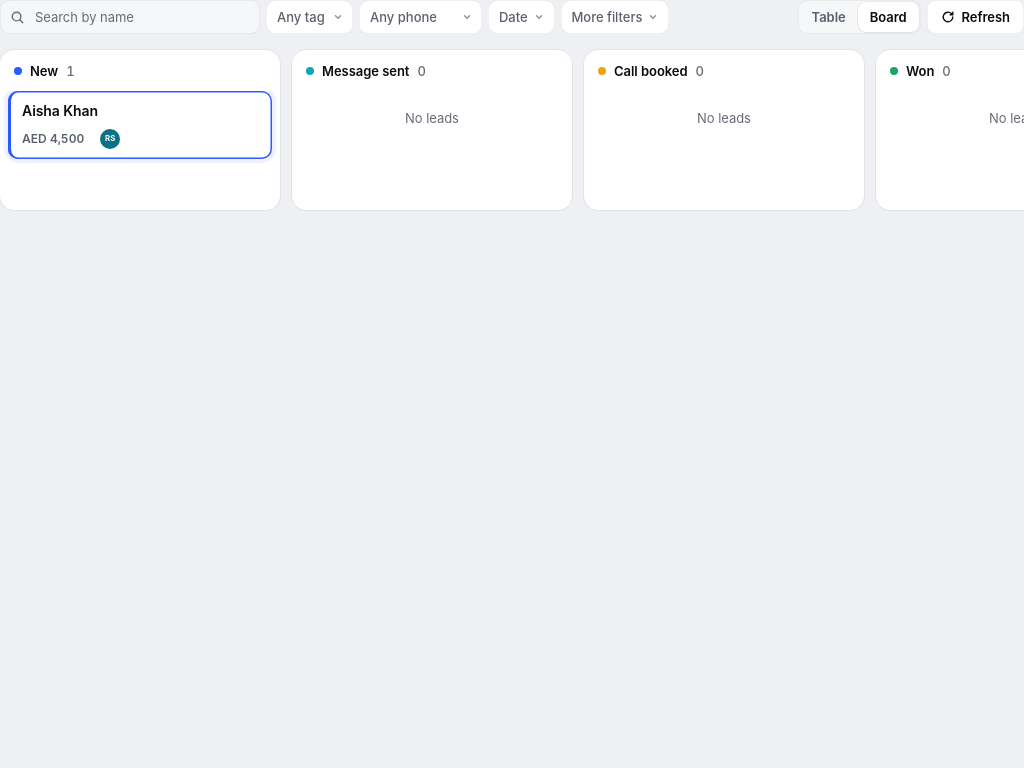
Test: BoardScreen › asks for the reason when a card is dropped on Lost, and cancelling puts it back
This screenshot has width=1024, height=768.
Type keys " {ArrowRight}{ArrowRight}{ArrowRight}{ArrowRight}{Enter}"
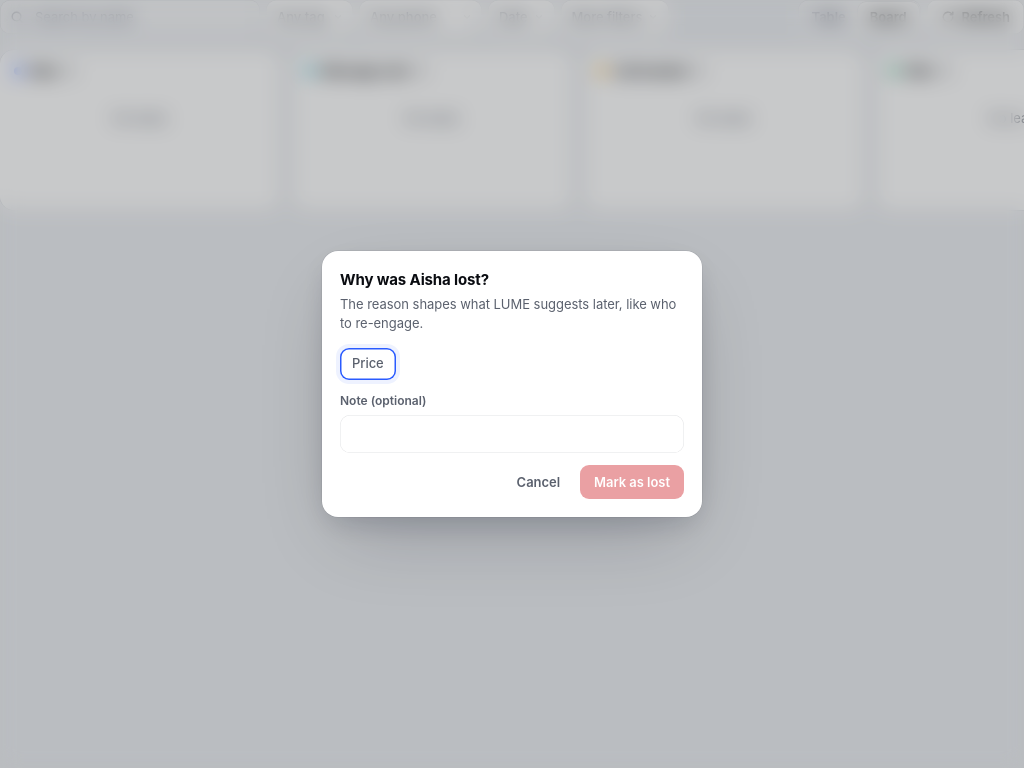
Click the button "Cancel".
click(538, 482)  # box top-left (503, 465), bottom-right (574, 499)
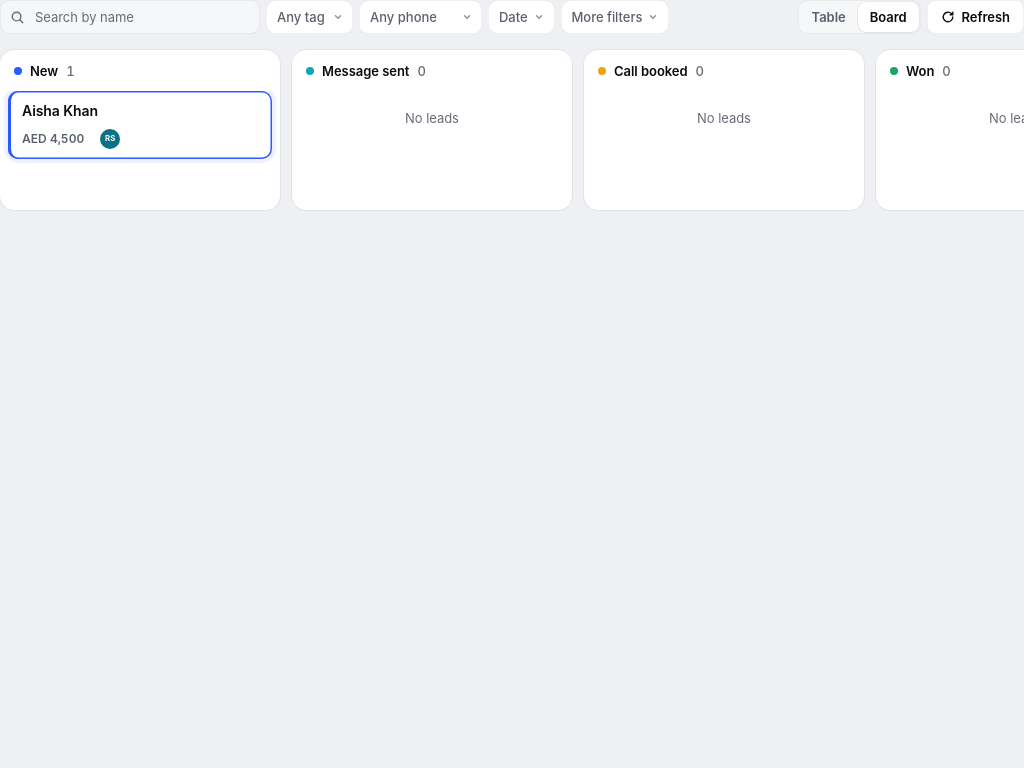
Check: the button "Aisha Khan AED 4,500 RS" is shown, box top-left (8, 91), bottom-right (272, 159)
